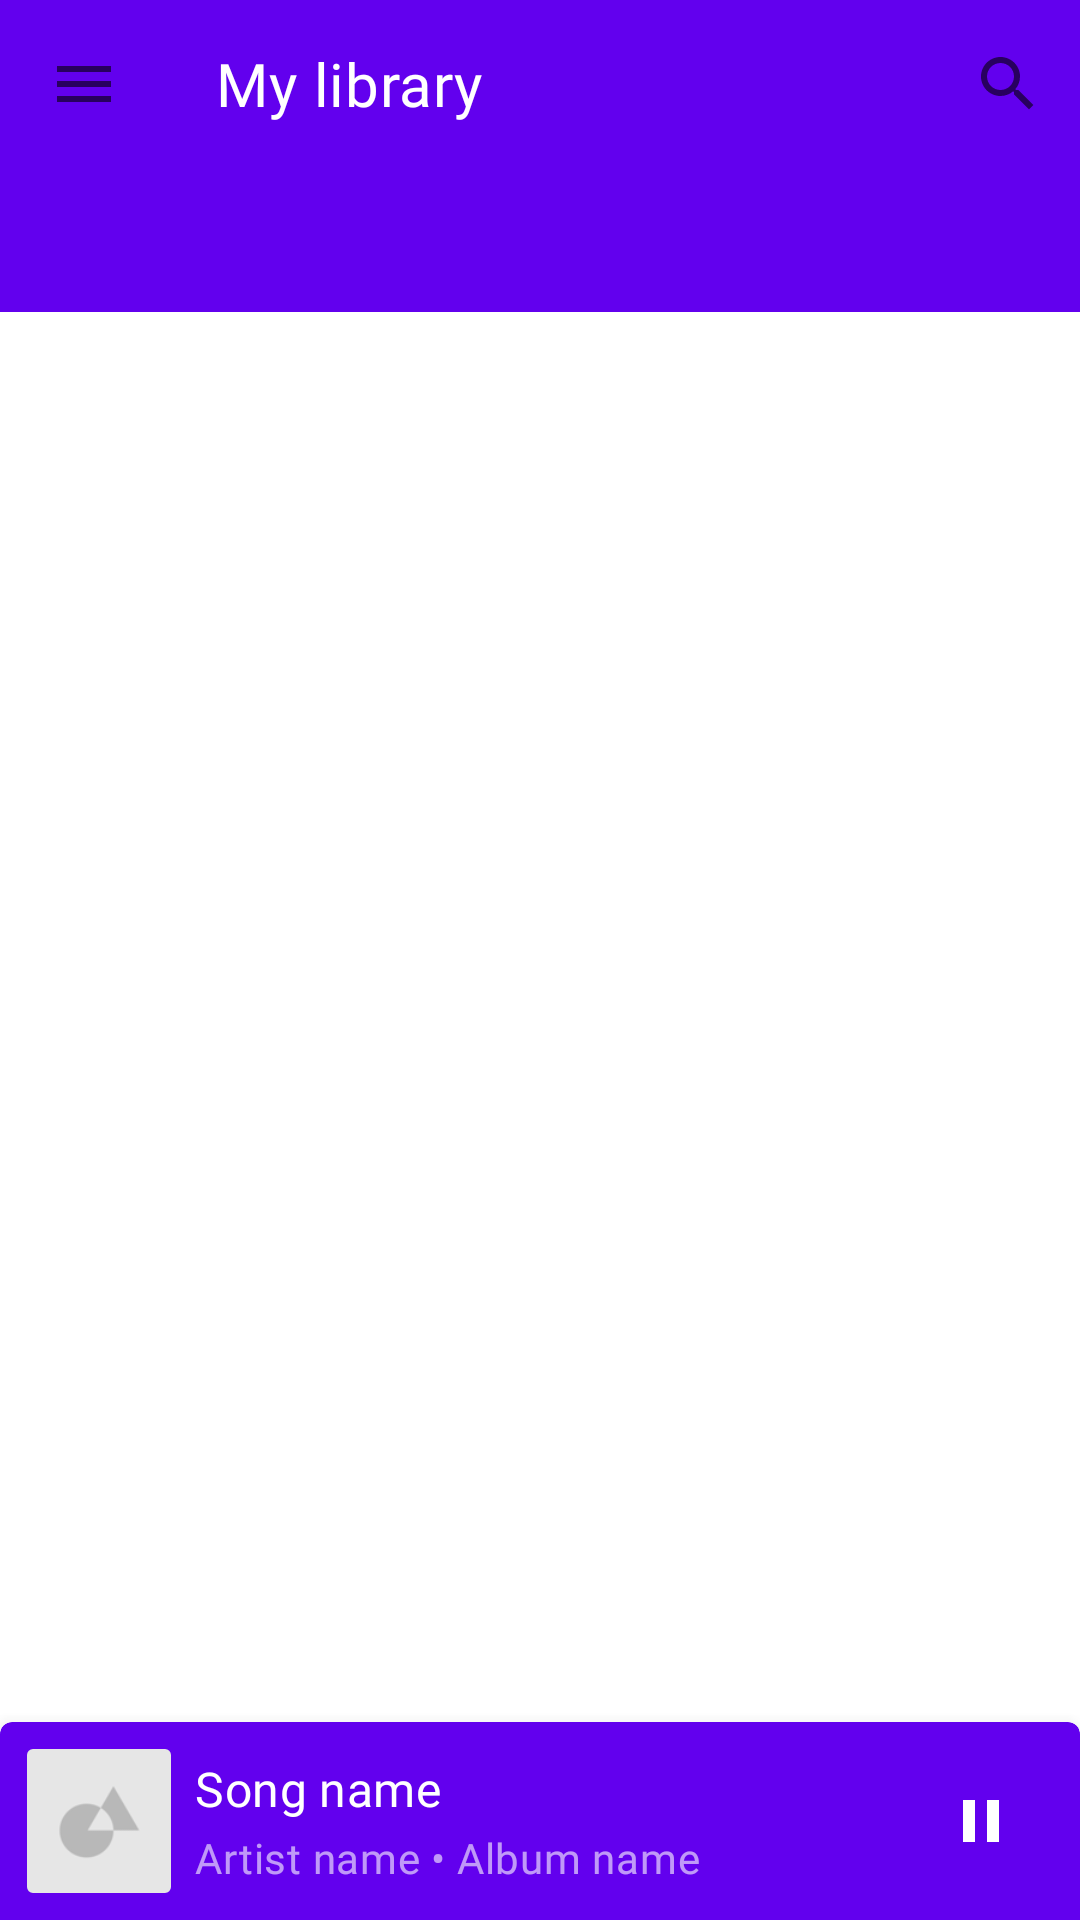

Named icons in this screenshot (1080×1920) and their centers, (x,y):
Pause: (981,1821)
